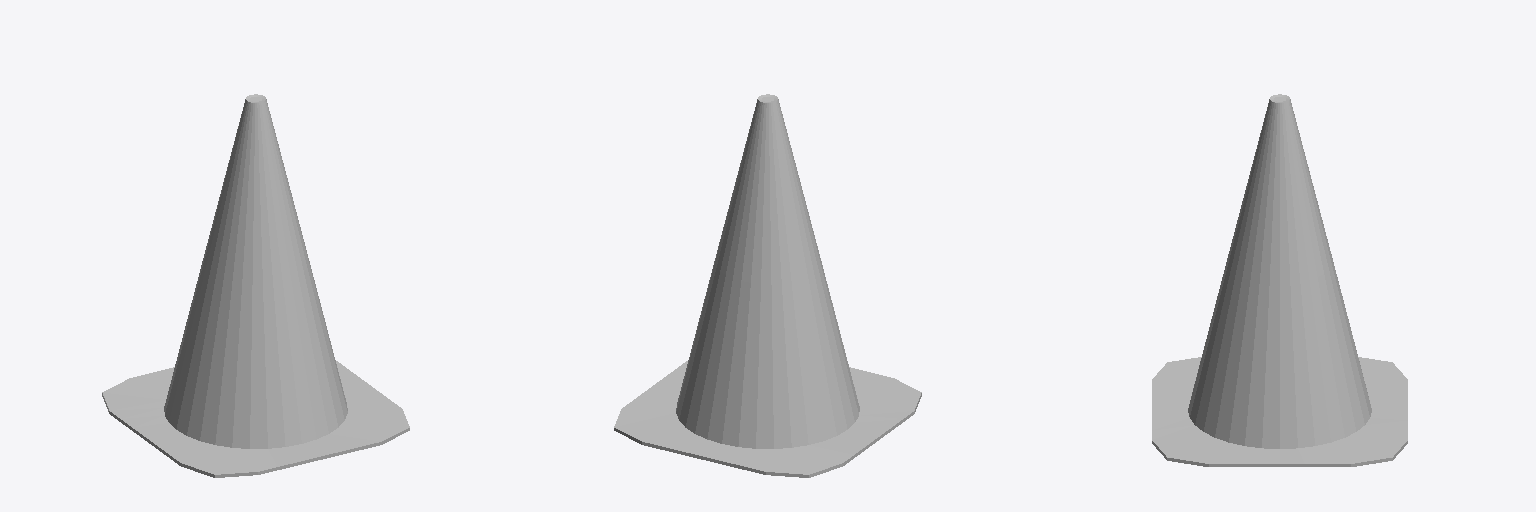
File: trafficCone.obj
3 views of the same model, side by side, from view 1: azimuth 30°, elevation 25°; view 2: azimuth 150°, elevation 25°; view 3: azimuth 270°, elevation 25° (orthographic).
Visible parts, largest first — view 1: Cone; view 2: Cone; view 3: Cone.
Part boxes in pixels (left/top/right/bottom): Cone: left=102, top=94, right=409, bottom=477; Cone: left=614, top=94, right=921, bottom=477; Cone: left=1152, top=94, right=1407, bottom=466.
Bounding box in the file's own units: 0.7527 × 1.02 × 0.7527.